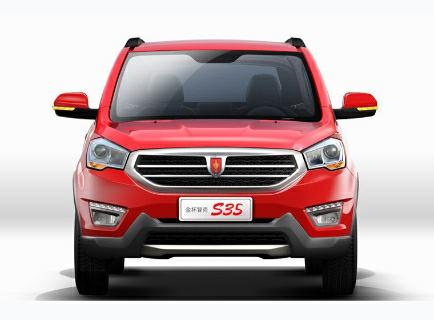金杯-智尚S35: (46, 24, 387, 306)
